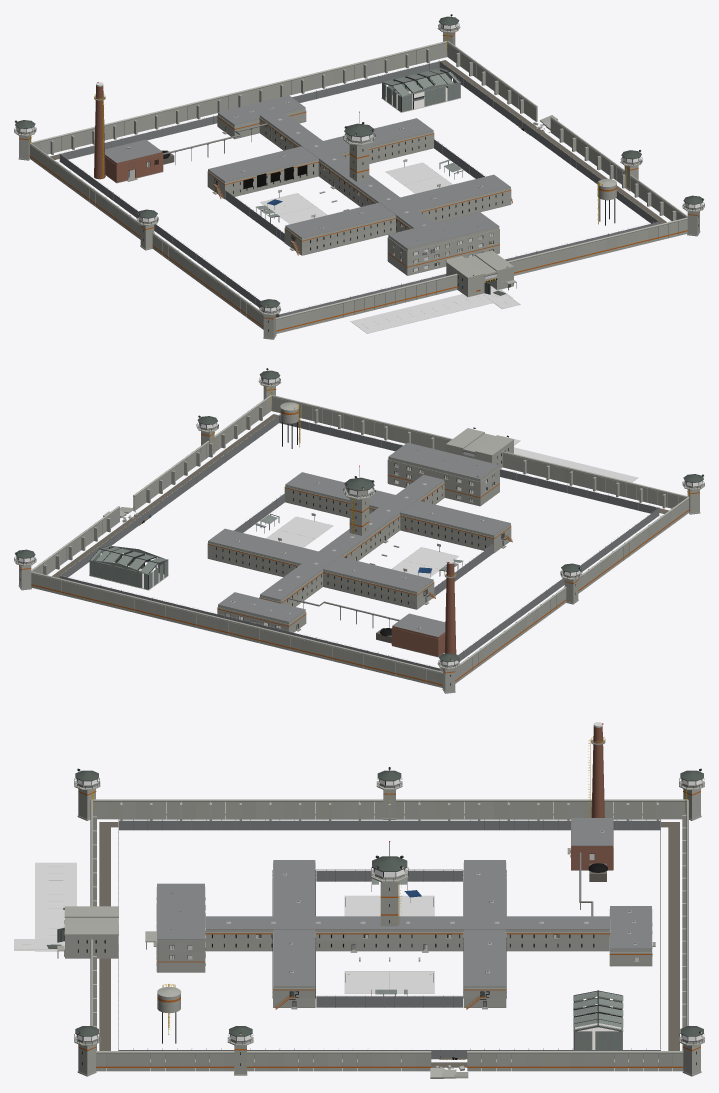
File: detention-block.glb
3 views of the same model, one above another, from view 1: azimuth 30°, elevation 25°; view 2: azimuth 150°, elevation 25°; view 3: azimuth 270°, elevation 25° (orthographic). The views are drawn at different scales.
Visible parts, largest first — view 1: C0_0_lod0, C-1_0_lod0, C-1_-3_lod0, C0_1_lod0, C-1_-1_lod0, C0_-1_lod0, C0_-2_lod0, C1_0_lod0, C-2_1_lod0, C1_1_lod0, C-2_0_lod0, C0_2_lod0 (+22 smaller); view 2: C0_0_lod0, C-1_0_lod0, C-1_-1_lod0, C1_0_lod0, C0_-2_lod0, C0_2_lod0, C0_1_lod0, C-2_1_lod0, C-1_-3_lod0, C1_1_lod0, C0_-1_lod0, C-2_0_lod0 (+22 smaller); view 3: C0_0_lod0, C-2_0_lod0, C0_-2_lod0, C0_1_lod0, C-3_0_lod0, C0_-1_lod0, C-1_0_lod0, C1_0_lod0, C2_-1_lod0, C-2_1_lod0, C-1_-3_lod0, C2_1_lod0 (+16 smaller).
Boxes of the visible parts, box(x1,y1,x2,y2) form: C0_0_lod0: box(260, 110, 455, 228); C-1_0_lod0: box(207, 115, 413, 228); C-1_-3_lod0: box(350, 257, 512, 333); C0_1_lod0: box(50, 60, 449, 159); C-1_-1_lod0: box(263, 133, 406, 255); C0_-1_lod0: box(361, 129, 511, 225); C0_-2_lod0: box(388, 212, 567, 275); C1_0_lod0: box(434, 60, 666, 224); C-2_1_lod0: box(59, 82, 175, 196); C1_1_lod0: box(367, 60, 487, 112); C-2_0_lod0: box(60, 153, 284, 317); C0_2_lod0: box(31, 41, 446, 143); C0_0_lod0: box(207, 465, 444, 606); C-1_0_lod0: box(281, 480, 458, 609); C-1_-1_lod0: box(367, 480, 510, 569); C1_0_lod0: box(52, 414, 284, 578); C0_-2_lod0: box(269, 414, 668, 513); C0_2_lod0: box(31, 571, 442, 685); C0_1_lod0: box(60, 575, 439, 670); C-2_1_lod0: box(367, 559, 487, 670); C-1_-3_lod0: box(475, 435, 638, 485); C1_1_lod0: box(59, 540, 168, 590); C0_-1_lod0: box(263, 472, 423, 526); C-2_0_lod0: box(416, 507, 658, 671); C0_0_lod0: box(205, 841, 610, 1007); C-2_0_lod0: box(99, 819, 679, 881); C0_-2_lod0: box(99, 822, 255, 1061); C0_1_lod0: box(506, 820, 679, 1063); C-3_0_lod0: box(92, 770, 686, 820); C0_-1_lod0: box(205, 866, 389, 1007); C-1_0_lod0: box(345, 855, 506, 916); C1_0_lod0: box(106, 986, 672, 1067); C2_-1_lod0: box(96, 1034, 431, 1071); C-2_1_lod0: box(543, 722, 660, 881); C-1_-3_lod0: box(35, 862, 118, 951); C2_1_lod0: box(467, 1051, 683, 1071).
Size of what is drawn, in the model's own units: 213 by 43.3 by 232.
